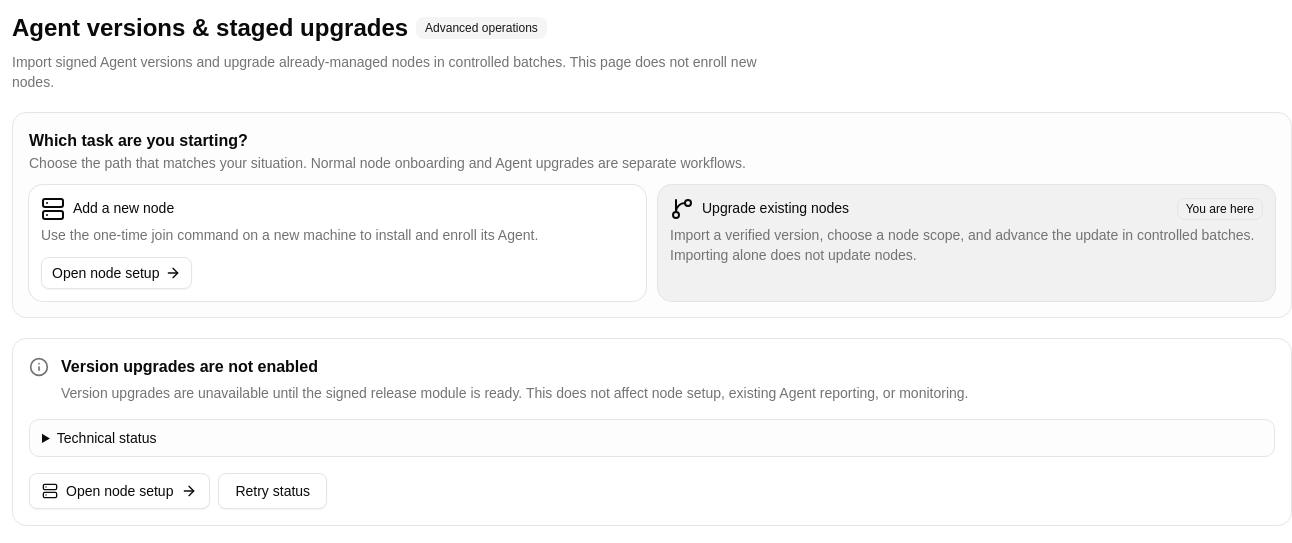
Test: Agent release workspace › reports real disabled and unconfigured status before loading release data
Click the button "Retry status" at {"x": 273, "y": 491}, box x1=218 y1=473 x2=327 y2=509
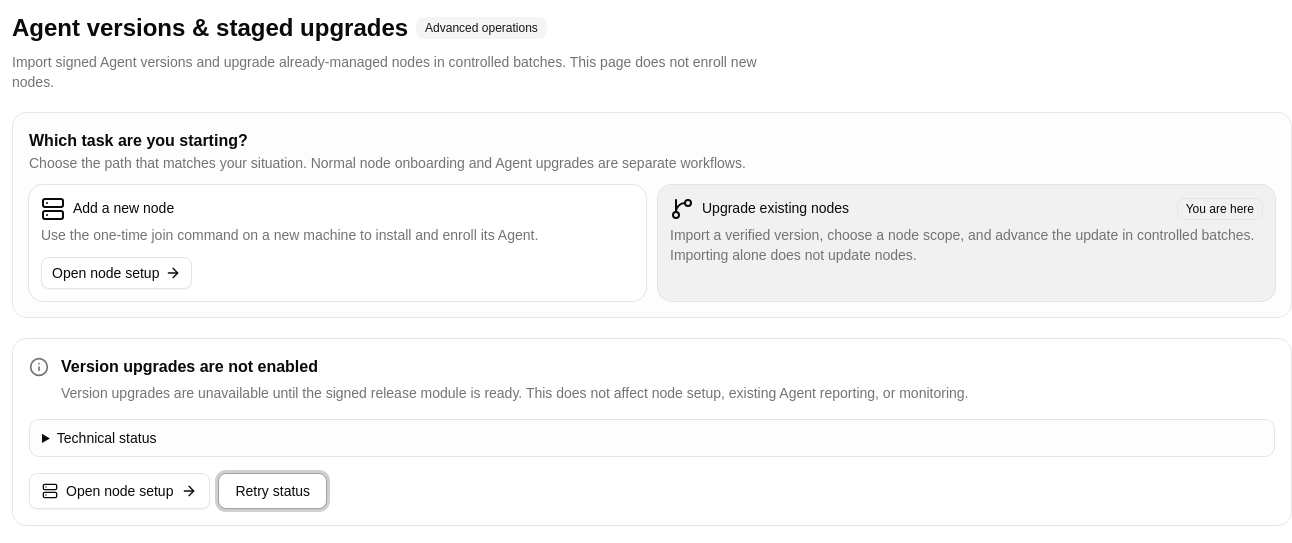
Click the button "Retry status" at {"x": 273, "y": 491}, box x1=218 y1=473 x2=327 y2=509
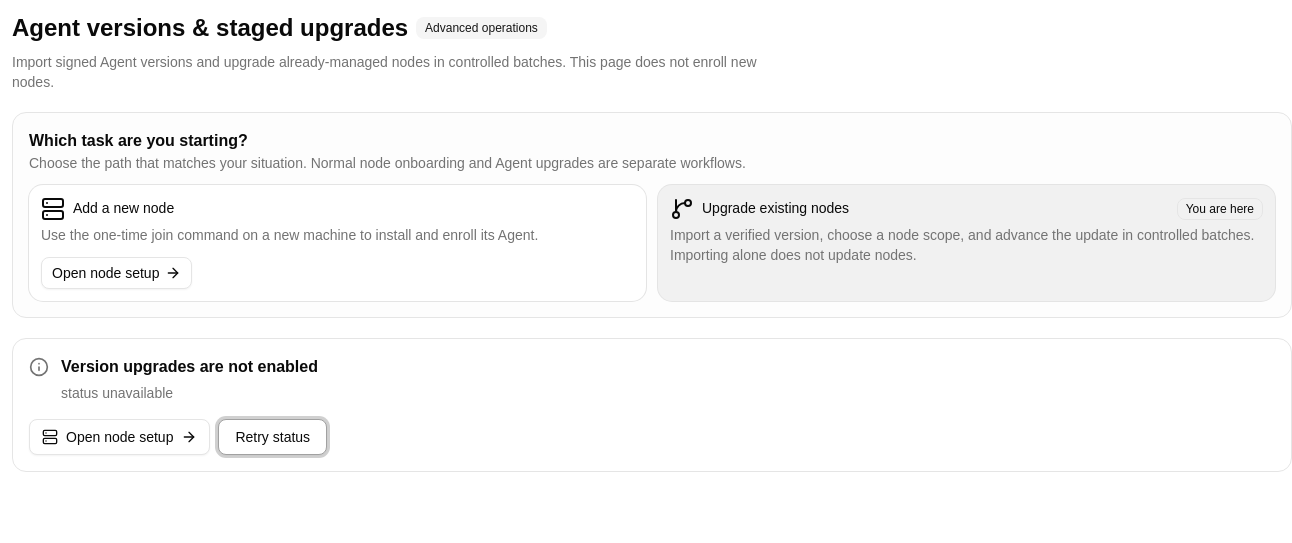
Now the message shows "status unavailable", box x1=61 y1=385 x2=173 y2=401
